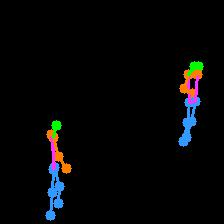normal: (44, 115, 71, 222), (181, 58, 201, 151)
